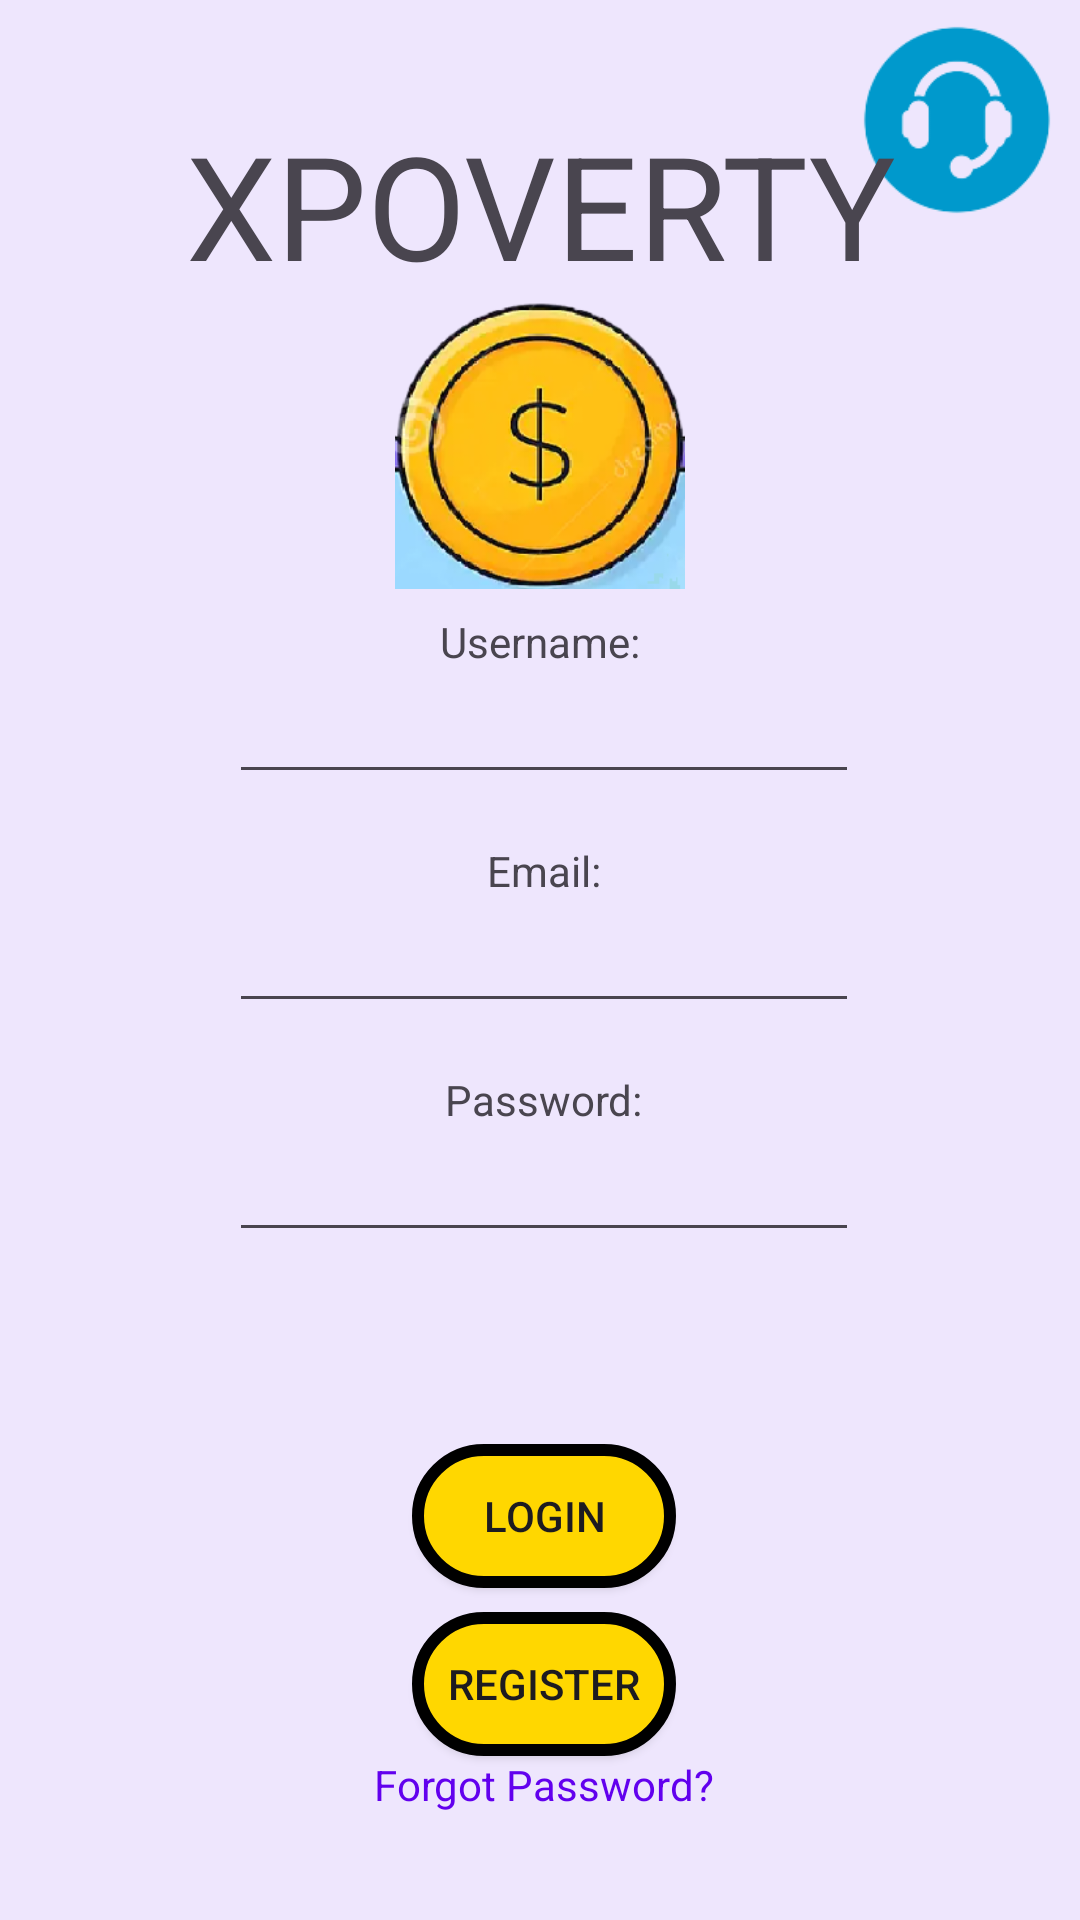

Icon click points for this 1080 × 1920 phone screenshot, format point (x, y):
contact us: point (954, 121)
